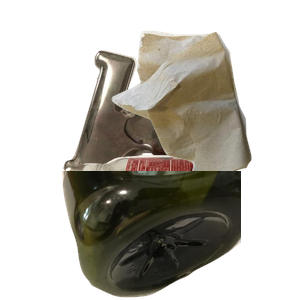glass: (73, 153, 284, 300)
metal: (60, 47, 300, 227)
plastic: (60, 171, 300, 300)
trash: (109, 28, 300, 208)
